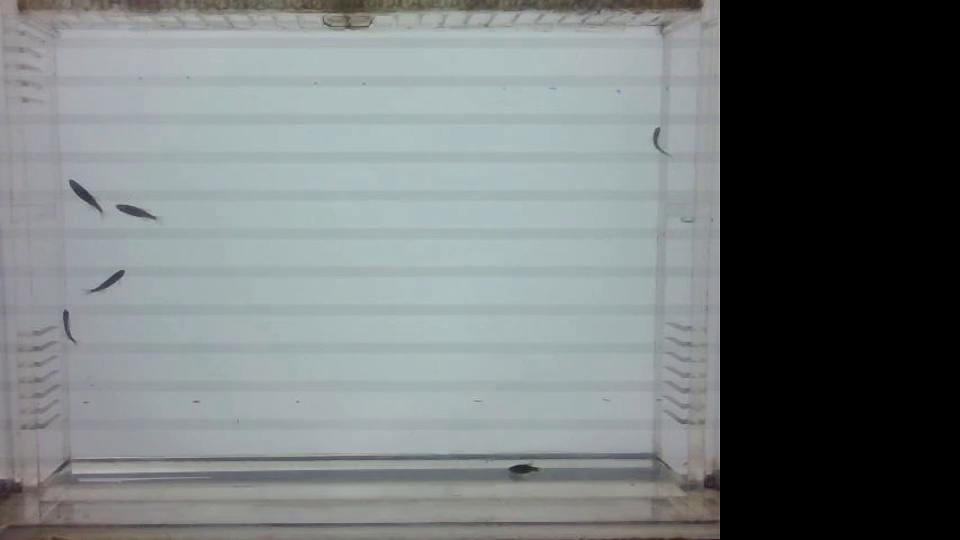fish: (60, 174, 109, 217), (113, 196, 164, 233), (80, 260, 129, 298), (52, 305, 82, 348), (645, 121, 673, 166), (508, 456, 546, 477)
